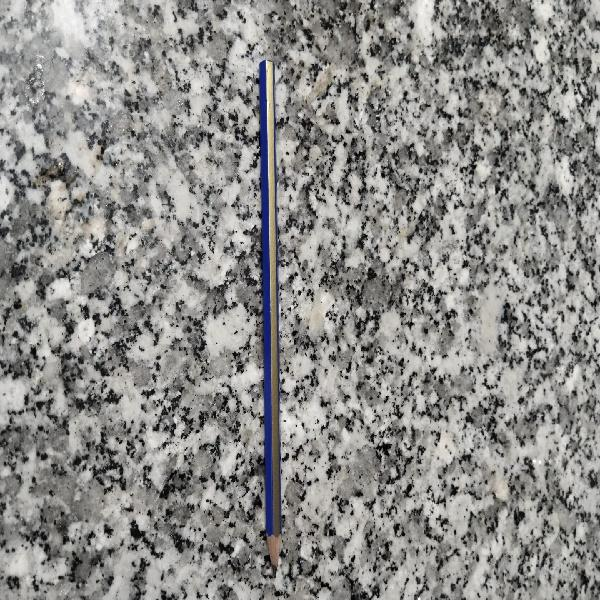pencil: (254, 55, 288, 573)
